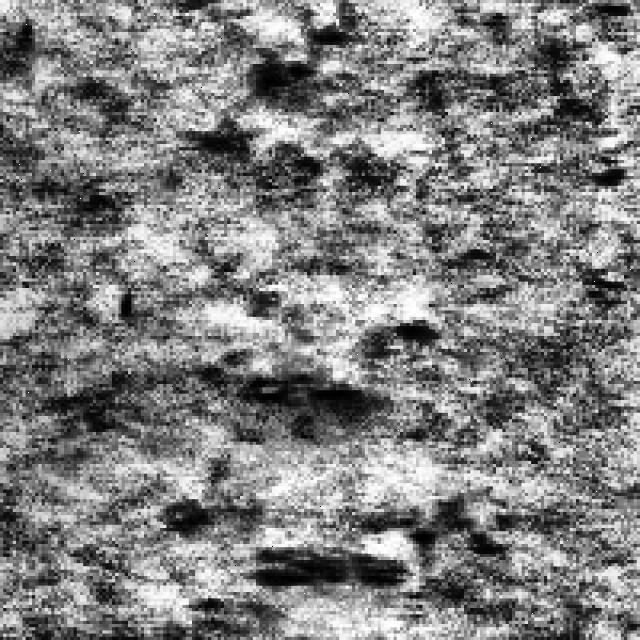Crazing: (214, 304, 432, 605), (144, 470, 496, 592), (179, 19, 349, 163)
